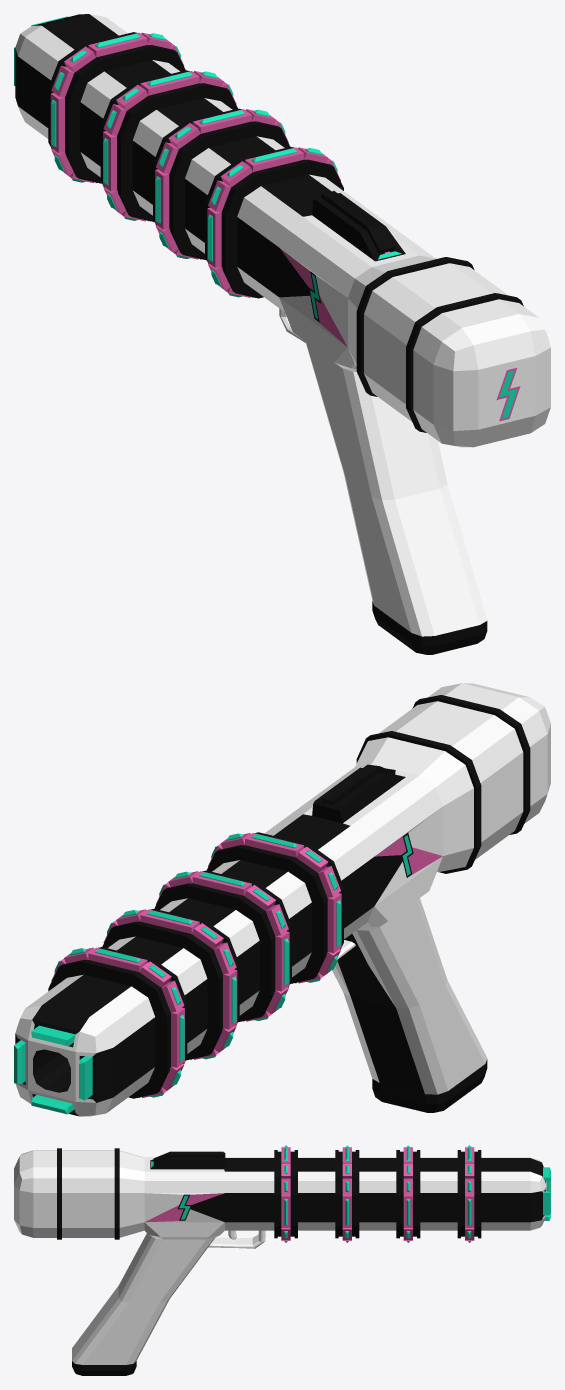
Rendered from lasergun.fbx.
3 renders of one model, top to bottom at view 1: azimuth 30°, elevation 25°; view 2: azimuth 150°, elevation 25°; view 3: azimuth 270°, elevation 25°, orthographic. The views are drawn at different scales.
Visible parts, largest first — view 1: Cube, Cube.001; view 2: Cube, Cube.001; view 3: Cube, Cube.001.
Part boxes in pixels (bbox=[...]): Cube: bbox=[14, 14, 550, 636]; Cube.001: bbox=[372, 601, 487, 654]; Cube: bbox=[14, 683, 550, 1116]; Cube.001: bbox=[372, 1059, 487, 1112]; Cube: bbox=[14, 1145, 550, 1364]; Cube.001: bbox=[72, 1361, 136, 1375].
Bounding box in the file's own units: 0.28 × 0.74 × 1.67.
